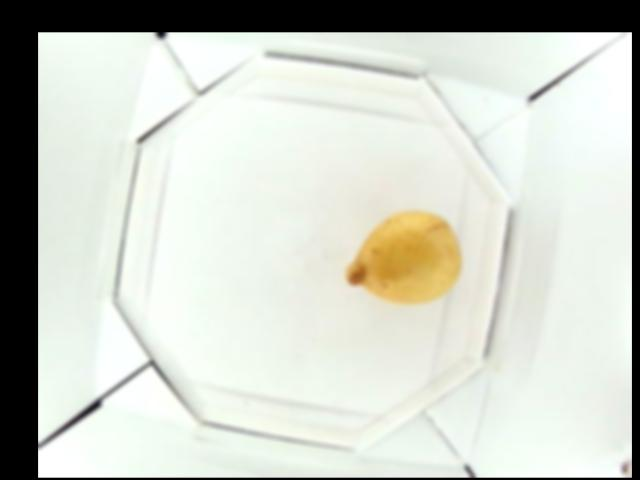Potato: (342, 210, 461, 307)
